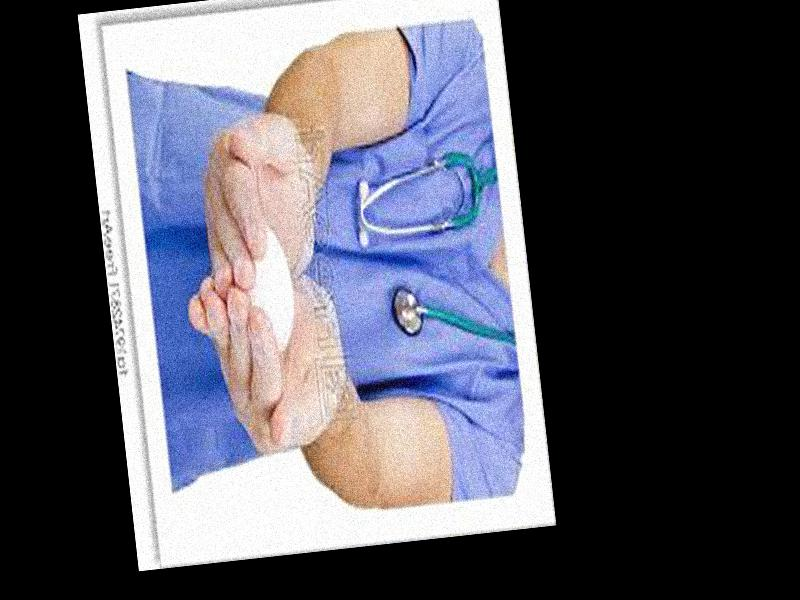Eggs: (238, 224, 299, 350)
